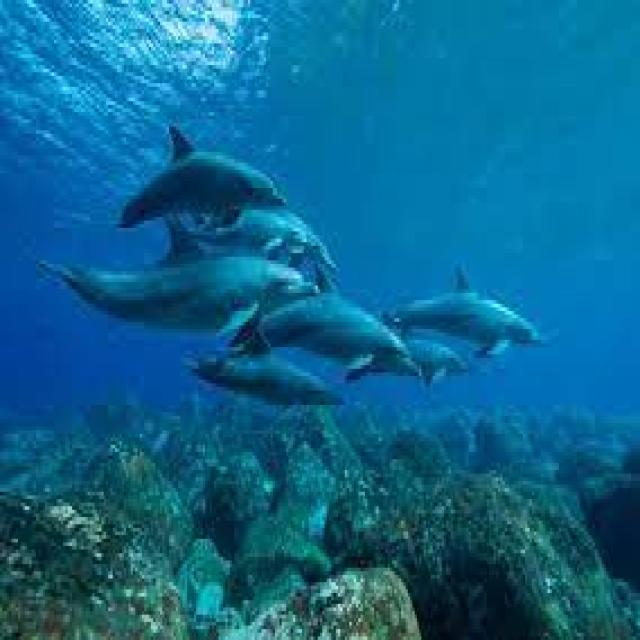dolphin: (50, 239, 322, 383), (128, 137, 291, 246), (252, 289, 408, 387)
